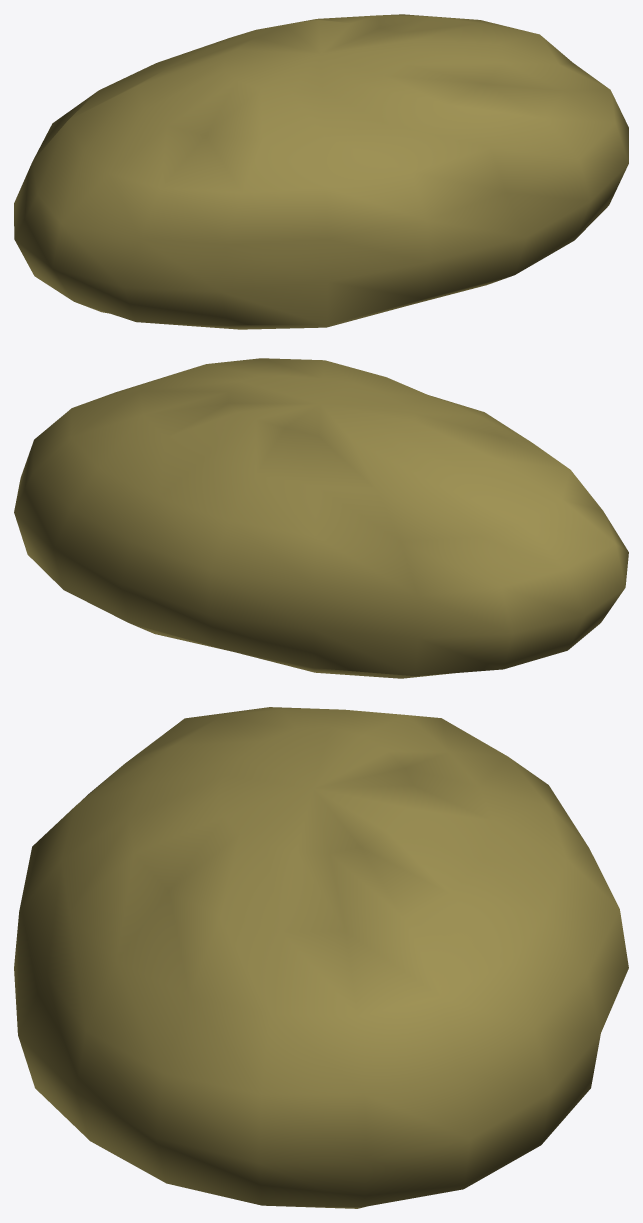
File: cinder_crab_tomalley.glb
3 renders of one model, top to bottom at view 1: azimuth 30°, elevation 25°; view 2: azimuth 150°, elevation 25°; view 3: azimuth 270°, elevation 25°, orthographic. The views are drawn at different scales.
Visible parts, largest first — view 1: cinder_crab_tomalley; view 2: cinder_crab_tomalley; view 3: cinder_crab_tomalley.
Part boxes in pixels (box(x1,y1,x2,y2)): cinder_crab_tomalley: box(14, 14, 628, 329); cinder_crab_tomalley: box(14, 358, 628, 678); cinder_crab_tomalley: box(14, 707, 628, 1208).
Size of the model in its own units: 0.03 by 0.01 by 0.02.
